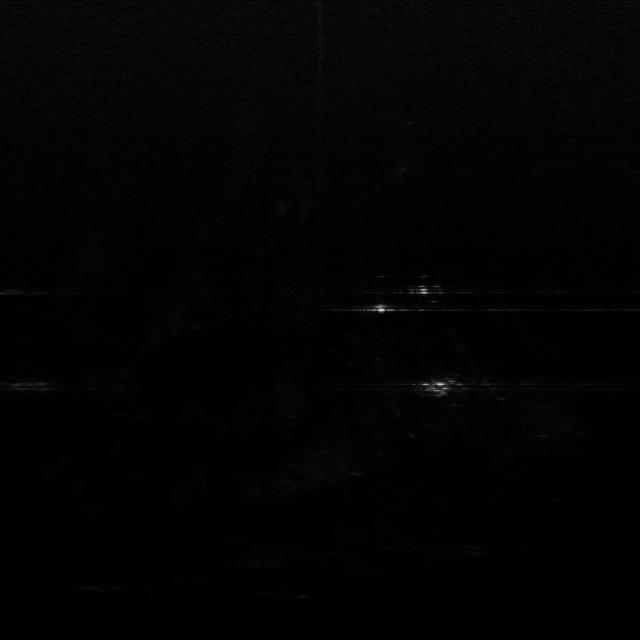rov: (419, 376, 462, 400)
